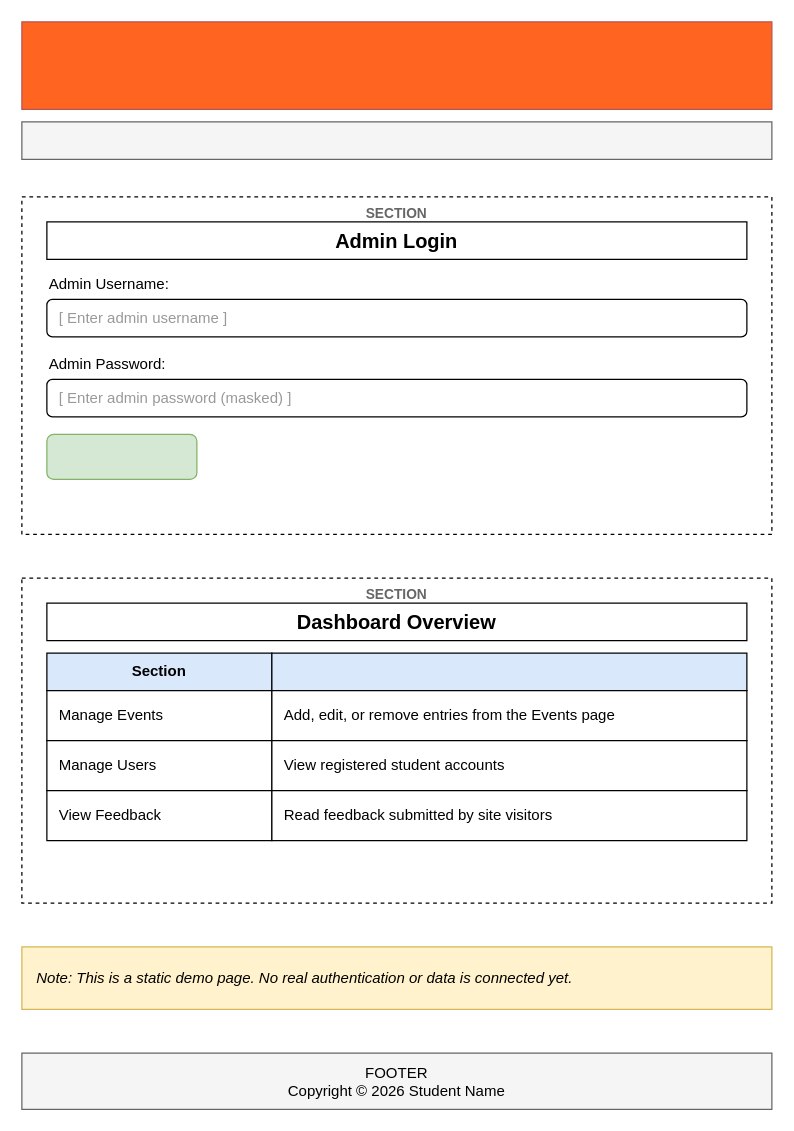
The diagram is 794 pixels wide and 1131 high, and some of its shapes have lost their labels. The box of each missing label's shape, as (x1, y1, x2, y2) in pixels:
Description: (271, 652, 747, 691)
HEADER Admin Panel Restricted Access - Site Administration: (21, 21, 772, 109)
Login: (46, 433, 197, 479)
NAV: ← Back to Home Page: (21, 121, 772, 159)
